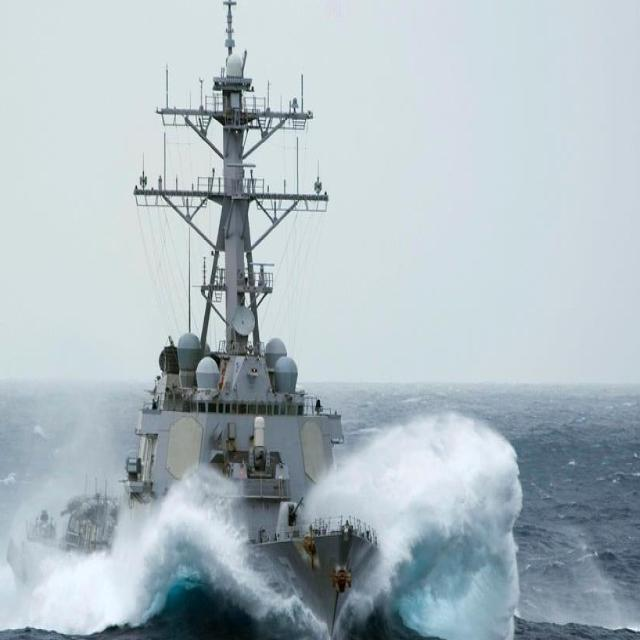navalvessels: (12, 0, 414, 640)
